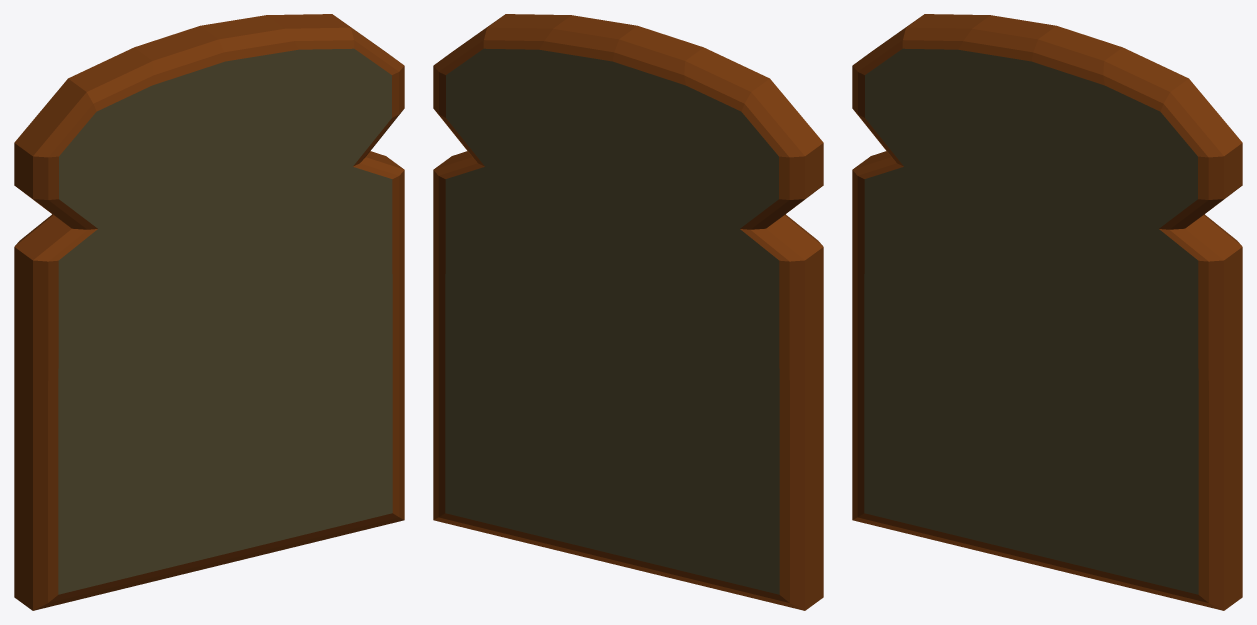
The model's file is TOSTADAQUEMADA_ANASTASIA.fbx.
3 views of the same model, side by side, from view 1: azimuth 30°, elevation 25°; view 2: azimuth 150°, elevation 25°; view 3: azimuth 330°, elevation 25° (orthographic).
Parts seen in each view (by area): view 1: Cube; view 2: Cube; view 3: Cube.
Boxes of the visible parts, box(x1,y1,x2,y2) form: Cube: box(14, 14, 404, 610); Cube: box(433, 14, 823, 610); Cube: box(852, 14, 1242, 610).
Size of the model in its own units: 208 by 281 by 31.
